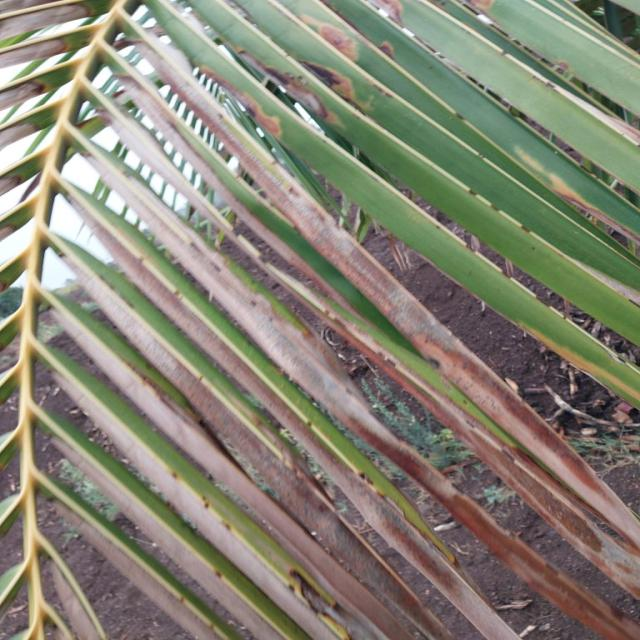gray leaf spot: (0, 2, 640, 639)
